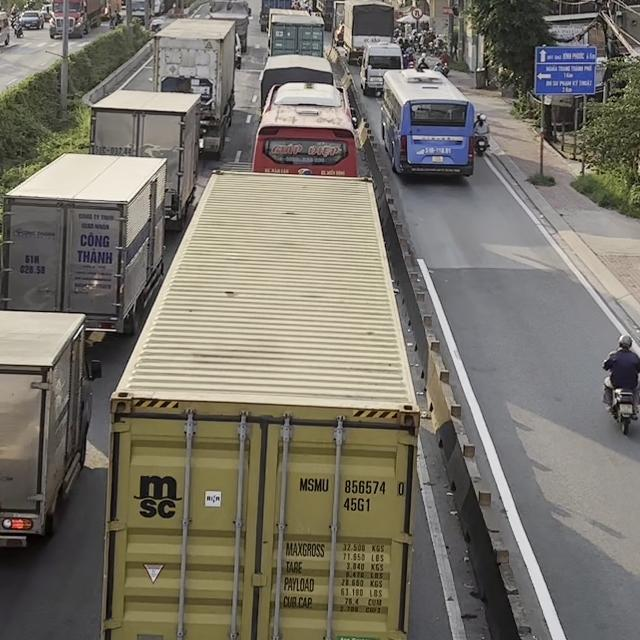bus: (379, 67, 475, 179), (251, 81, 360, 177)
car: (359, 41, 403, 96)
motorcycle: (602, 370, 639, 435), (475, 133, 492, 157)
truck: (100, 169, 423, 639), (0, 150, 181, 338), (0, 308, 104, 549), (89, 85, 208, 228), (151, 16, 242, 159), (258, 54, 334, 116), (339, 0, 395, 64), (266, 9, 324, 57), (207, 0, 252, 53)
